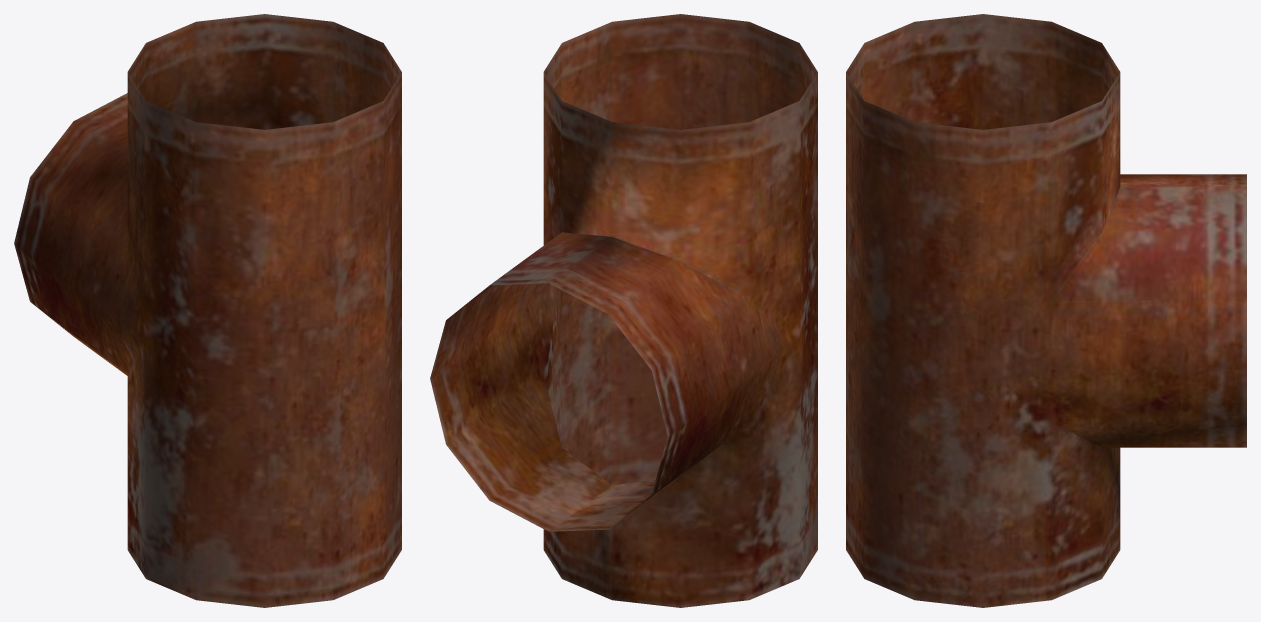
File: stylized_pipe_10.glb
3 renders of one model, left to right at view 1: azimuth 30°, elevation 25°; view 2: azimuth 150°, elevation 25°; view 3: azimuth 270°, elevation 25°, orthographic.
Parts seen in each view (by area): view 1: stylized_pipe_10; view 2: stylized_pipe_10; view 3: stylized_pipe_10.
Part boxes in pixels (<box>): stylized_pipe_10: <box>14,14,401,607</box>; stylized_pipe_10: <box>430,14,817,607</box>; stylized_pipe_10: <box>846,14,1246,607</box>.
Size of what is drawn, in the model's own units: 0.0832 by 0.16 by 0.1216.
1 material, 1 textured.
